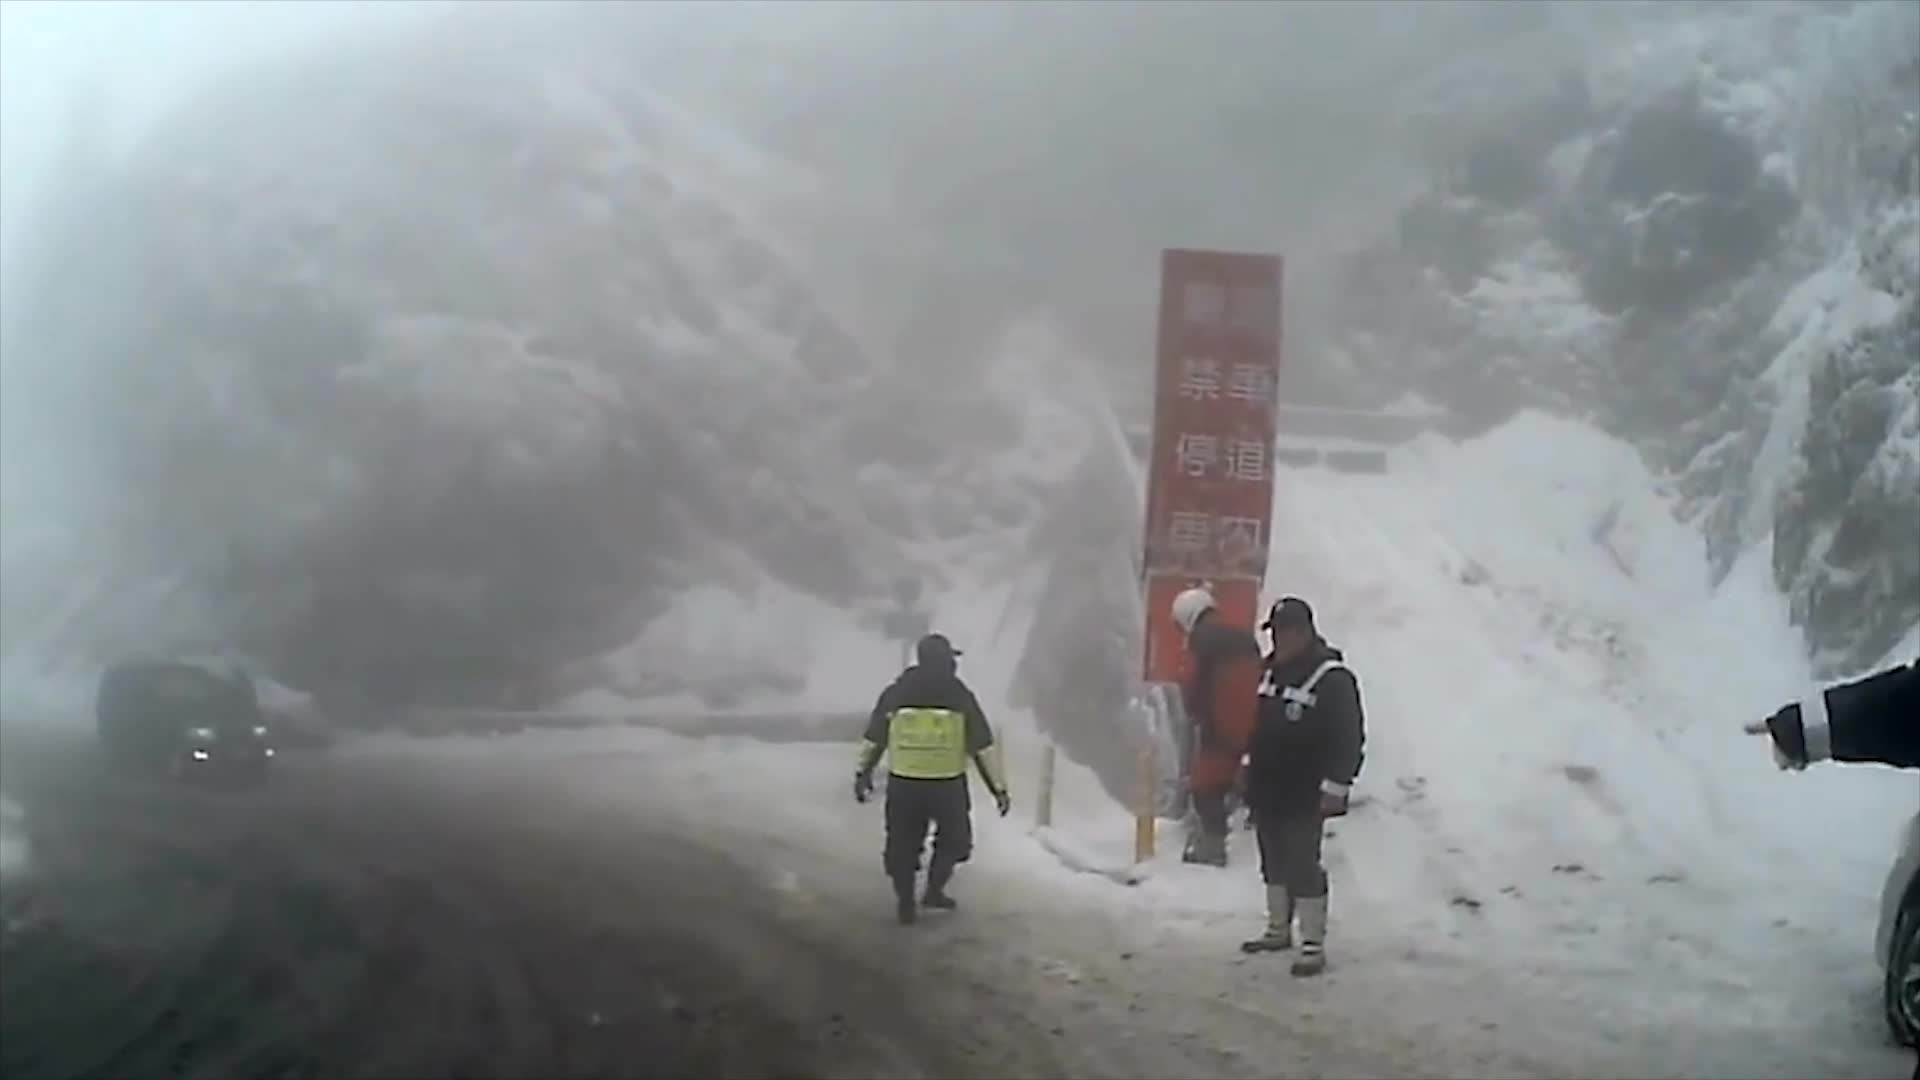pedestrian: (1242, 592, 1366, 983), (855, 625, 1014, 922), (1160, 591, 1270, 843)
vehicle: (95, 658, 274, 791)
